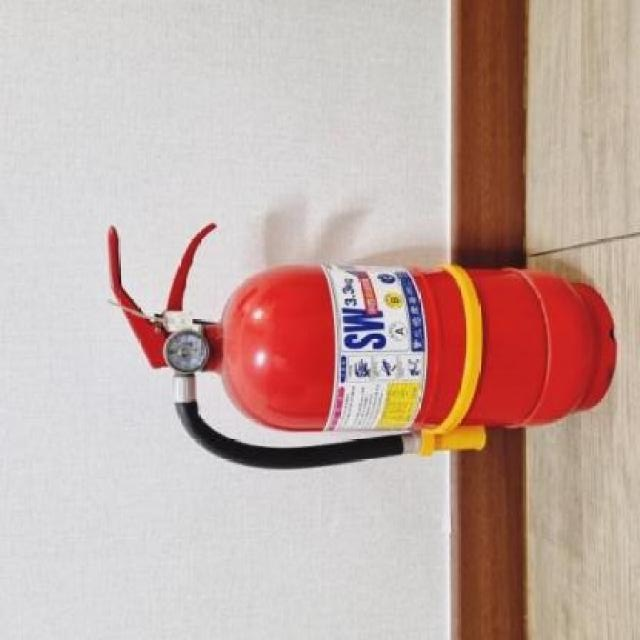fire extinguisher: (107, 222, 618, 470)
